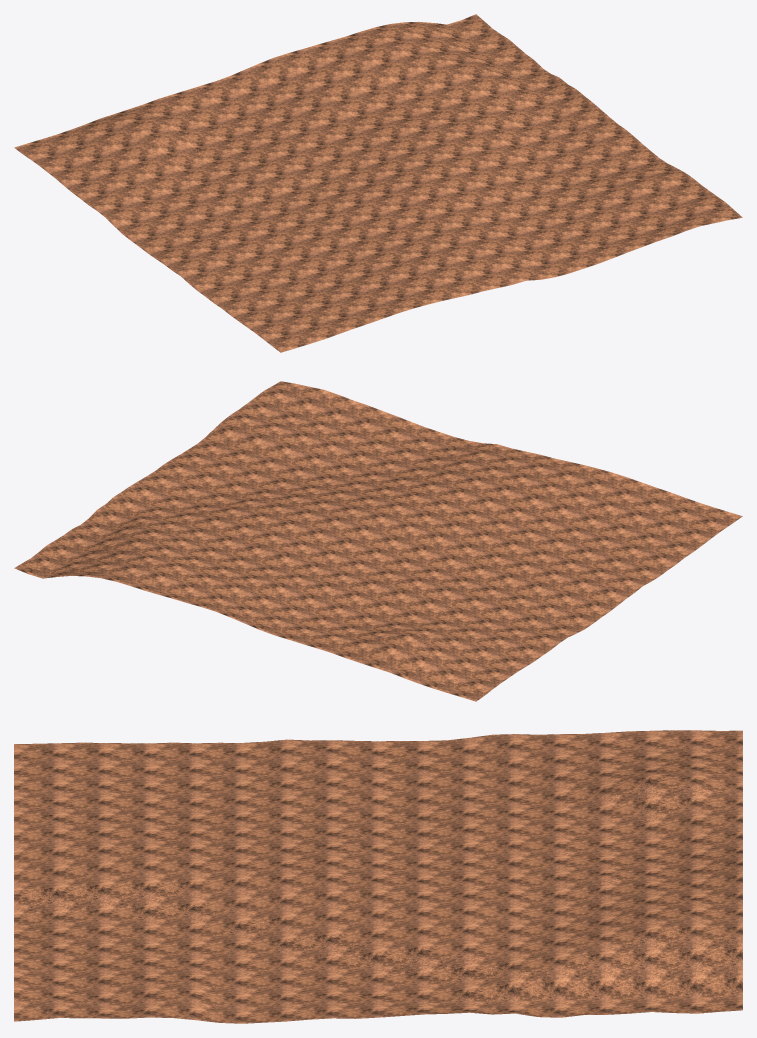
The model's file is terrain_05_10.dae.
The picture shows the model from 3 angles, top to bottom: view 1: azimuth 30°, elevation 25°; view 2: azimuth 150°, elevation 25°; view 3: azimuth 270°, elevation 25°; orthographic projection. The views are drawn at different scales.
Parts seen in each view (by area): view 1: terrain_05_10-node; view 2: terrain_05_10-node; view 3: terrain_05_10-node.
Part boxes in pixels (x1,y1,x2,y2): terrain_05_10-node: (14,14,742,352); terrain_05_10-node: (14,381,742,701); terrain_05_10-node: (14,730,742,1023).
Bounding box in the file's own units: 128 × 128 × 11.13.
Materials: 1 (1 with a texture image).
